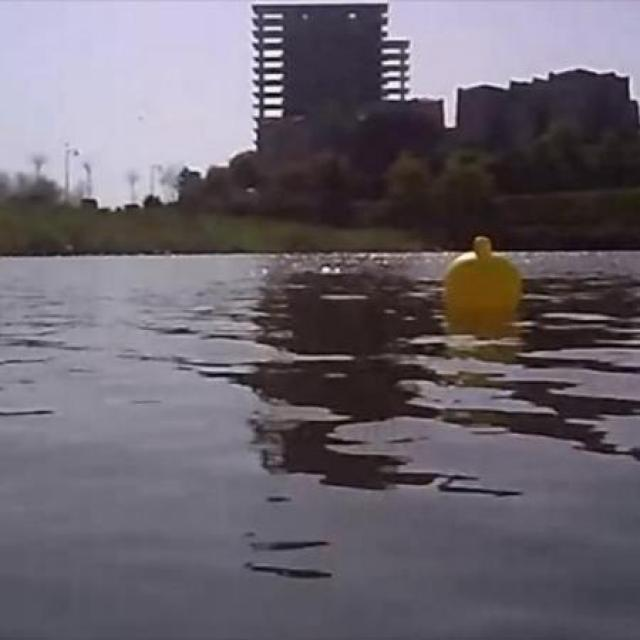buoy: (443, 236, 523, 316)
